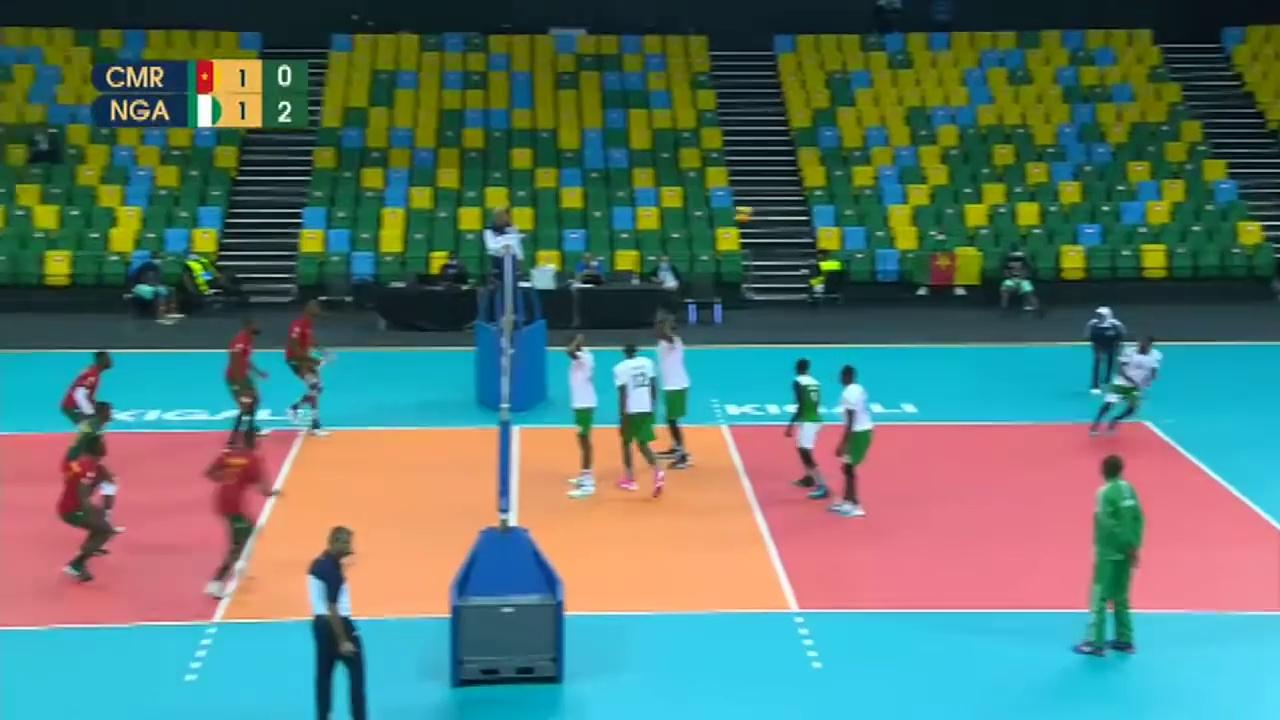player: (59, 433, 121, 591), (211, 427, 264, 606), (612, 332, 666, 499), (280, 290, 338, 444), (215, 304, 271, 461), (61, 399, 122, 539), (827, 360, 876, 525), (650, 310, 694, 469), (1092, 338, 1164, 434), (60, 346, 121, 446), (563, 338, 602, 492), (787, 360, 827, 490)
refree: (307, 527, 367, 719), (481, 204, 530, 319), (1086, 307, 1126, 395)
